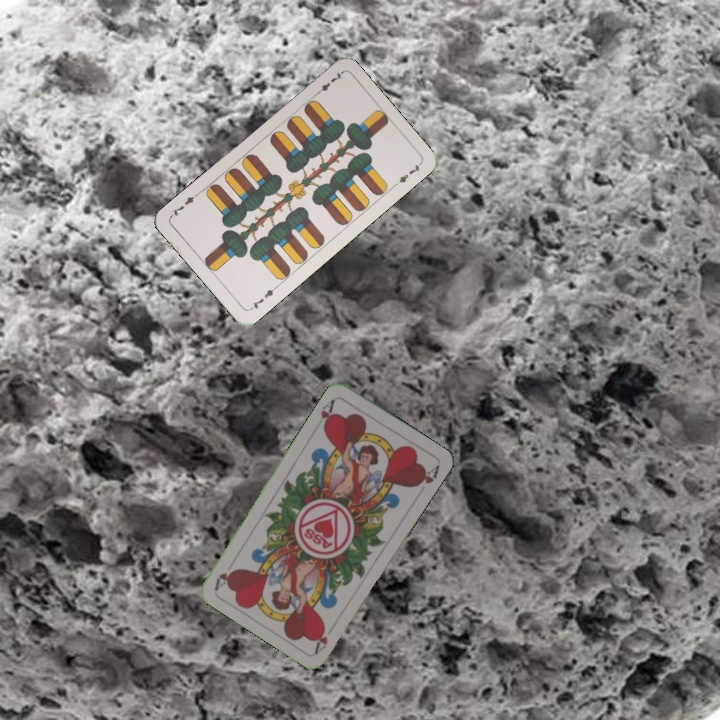E7: (246, 282, 280, 313), (311, 68, 345, 99)
HA: (316, 395, 338, 433), (310, 622, 330, 656)
